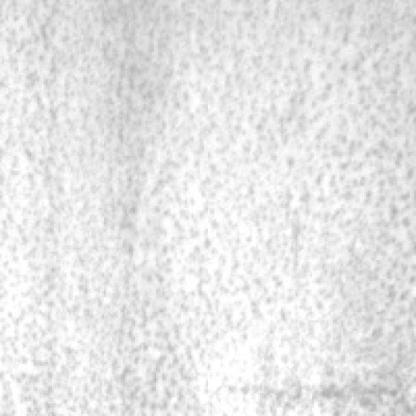pitted_surface: (0, 0, 411, 409)
